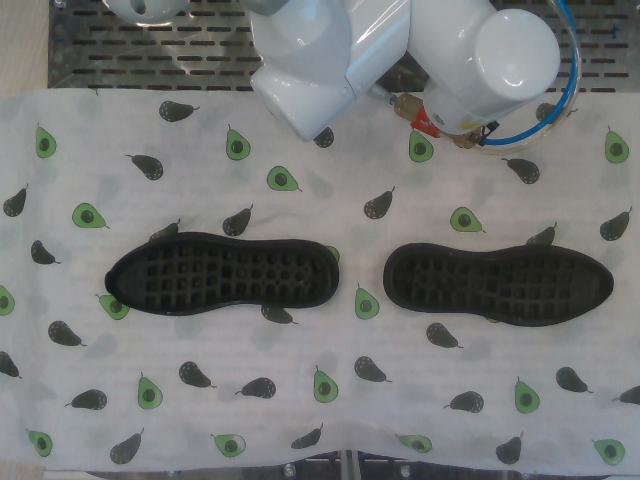shoes: (106, 240, 329, 312), (393, 251, 612, 321)
